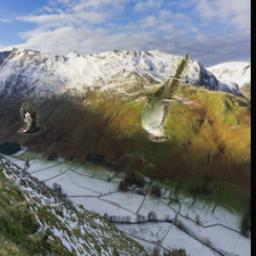Cuckoo: (142, 53, 190, 142)
Woodpecker: (17, 101, 46, 135)
